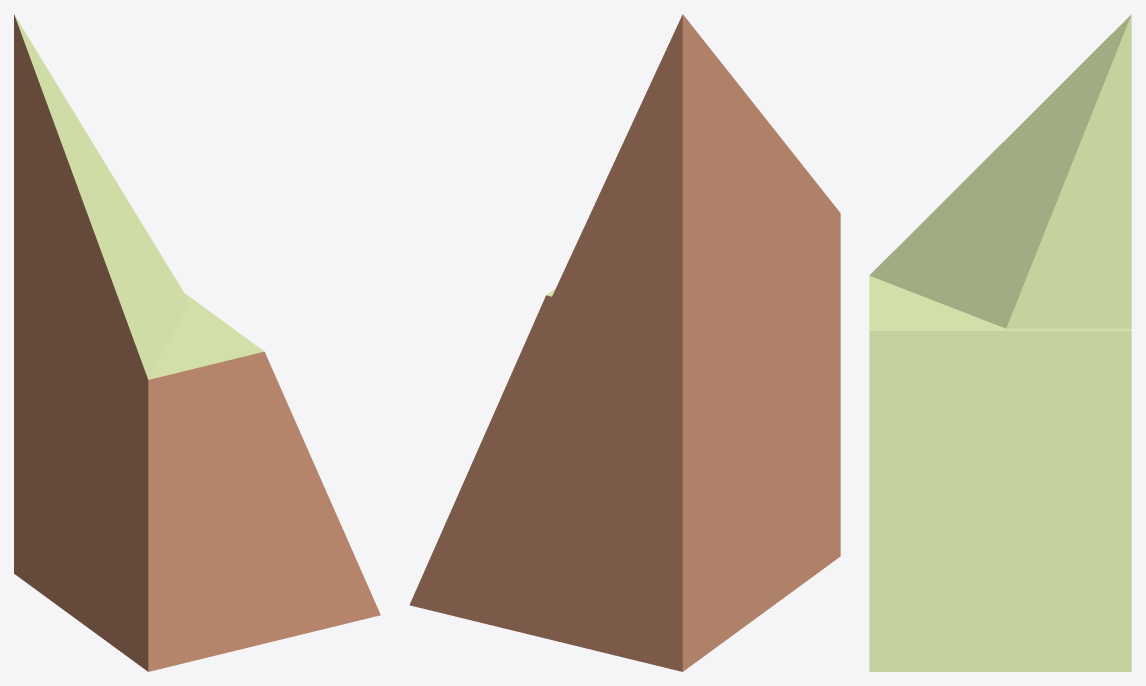
Rendered from Export Blockcar_Grounds_Inclinados.fbx.
The picture shows the model from 3 angles, left to right: view 1: azimuth 30°, elevation 25°; view 2: azimuth 150°, elevation 25°; view 3: azimuth 270°, elevation 25°; orthographic projection. The views are drawn at different scales.
Visible parts, largest first — view 1: Ground.Inclinado V3.1 12X Claro, Ground.Inclinado V3.1 8X Claro, Ground.Inclinado V2 12X Claro, Ground.Inclinado V2 8X Claro, Ground.Inclinado V2.1 8X Claro, Ground.Inclinado V2.1 12X Claro, Ground.Inclinado V2 4X Claro, Ground.Inclinado V4 12X Claro, Ground.Inclinado V4 8X Claro, Ground.Inclinado V3.1 4X Claro, Ground.Inclinado V1.1 12X Claro, Ground.Inclinado V1.1 4X Claro (+2 smaller); view 2: Ground.Inclinado V3.1 12X Claro, Ground.Inclinado V3.1 8X Claro, Ground.Inclinado V6 12X Claro, Ground.Inclinado V2.1 12X Claro, Ground.Inclinado V1.1 4X Claro, Ground.Inclinado V3.1 4X Claro, Ground.Inclinado v6 4X Claro, Ground.Inclinado V1 12X Claro, Ground.Inclinado V1.1 12X Claro, Ground.Inclinado V1 8x Claro, Ground.Inclinado V6 8X Claro, Ground.Inclinado V3 12X Claro (+8 smaller); view 3: Ground.Inclinado V2 12X Claro, Ground.Inclinado V3.1 12X Claro, Ground.Inclinado V1 12X Claro, Ground.Inclinado V6 12X Claro.
Boxes of the visible parts, box(x1,y1,x2,y2) form: Ground.Inclinado V3.1 12X Claro: box(14, 14, 189, 666); Ground.Inclinado V3.1 8X Claro: box(14, 197, 148, 667); Ground.Inclinado V2 12X Claro: box(148, 302, 380, 667); Ground.Inclinado V2 8X Claro: box(148, 449, 380, 669); Ground.Inclinado V2.1 8X Claro: box(18, 385, 379, 670); Ground.Inclinado V2.1 12X Claro: box(14, 282, 378, 667); Ground.Inclinado V2 4X Claro: box(148, 546, 380, 671); Ground.Inclinado V4 12X Claro: box(14, 283, 261, 667); Ground.Inclinado V4 8X Claro: box(14, 394, 257, 669); Ground.Inclinado V3.1 4X Claro: box(14, 384, 147, 670); Ground.Inclinado V1.1 12X Claro: box(14, 283, 143, 666); Ground.Inclinado V1.1 4X Claro: box(14, 482, 147, 671); Ground.Inclinado V3.1 12X Claro: box(413, 14, 840, 666); Ground.Inclinado V3.1 8X Claro: box(413, 214, 840, 670); Ground.Inclinado V6 12X Claro: box(411, 286, 839, 670); Ground.Inclinado V2.1 12X Claro: box(428, 213, 840, 666); Ground.Inclinado V1.1 4X Claro: box(411, 556, 838, 671); Ground.Inclinado V3.1 4X Claro: box(413, 442, 840, 671); Ground.Inclinado v6 4X Claro: box(413, 514, 834, 670); Ground.Inclinado V1 12X Claro: box(410, 295, 682, 603); Ground.Inclinado V1.1 12X Claro: box(419, 329, 834, 662); Ground.Inclinado V1 8x Claro: box(410, 410, 682, 670); Ground.Inclinado V6 8X Claro: box(412, 389, 833, 670); Ground.Inclinado V3 12X Claro: box(682, 344, 810, 665); Ground.Inclinado V2 12X Claro: box(869, 276, 1131, 671); Ground.Inclinado V3.1 12X Claro: box(869, 14, 1131, 328); Ground.Inclinado V1 12X Claro: box(869, 331, 1131, 671); Ground.Inclinado V6 12X Claro: box(869, 328, 1131, 671).
Size of the model in its own units: 1000 by 2300 by 1000.
